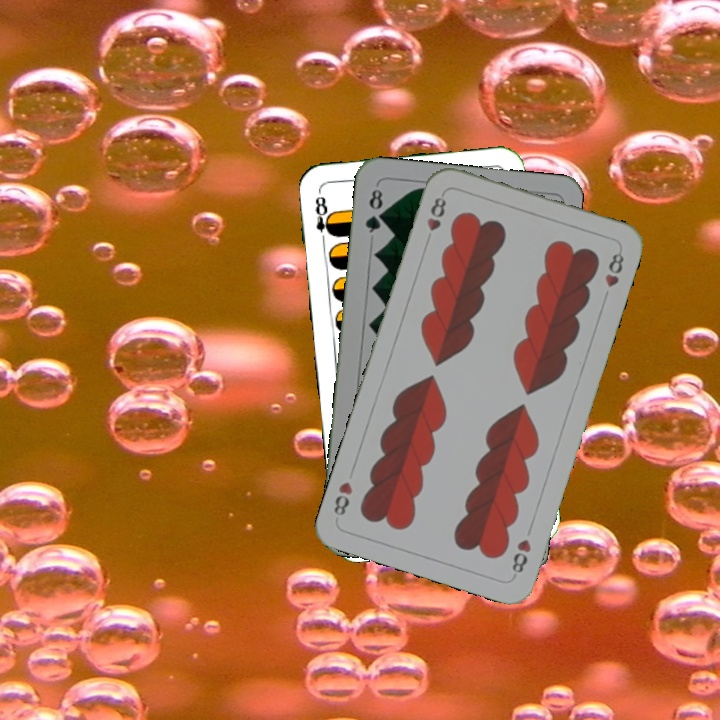E8: (311, 192, 336, 248)
G8: (361, 185, 386, 236)
H8: (421, 193, 449, 247), (507, 535, 534, 580)
